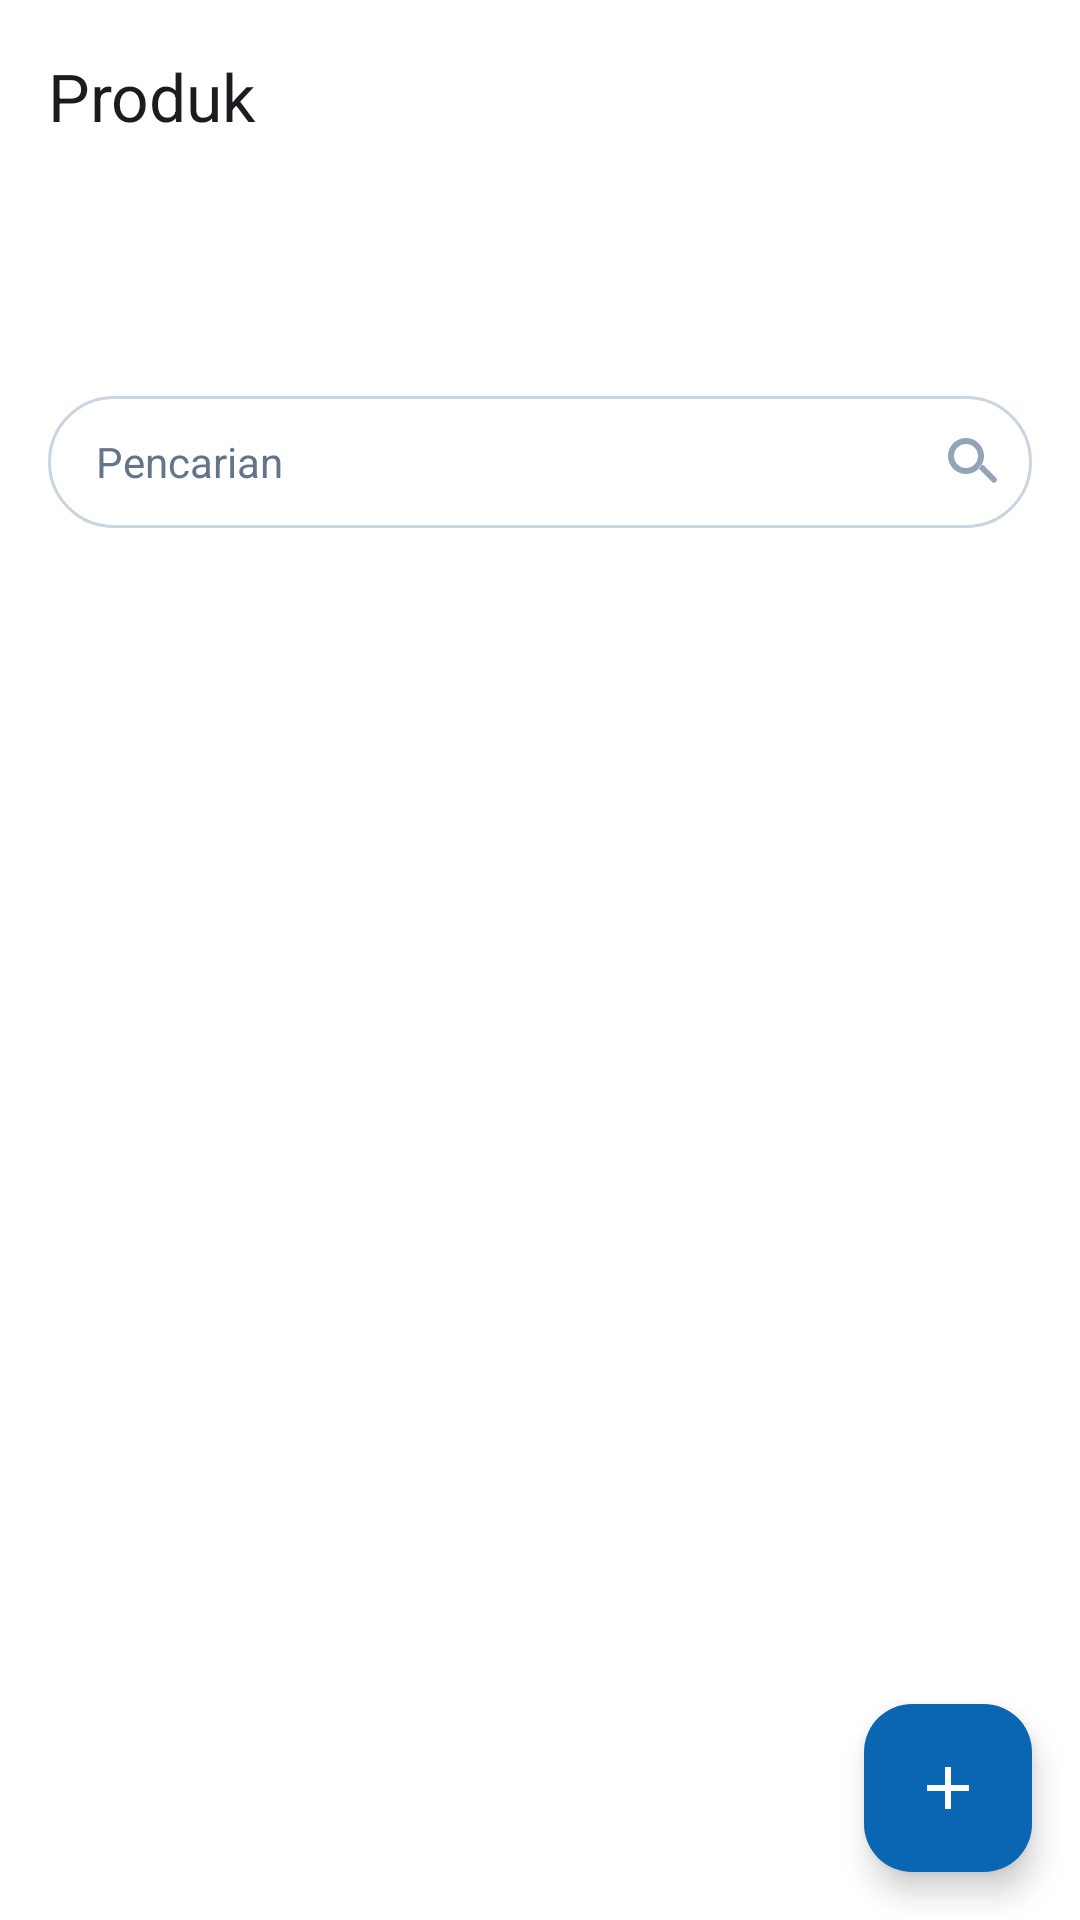

Screen size 1080px x 1920px. Icon name, then its box in pixels as bbox=[x1, y1, x2, y2]:
search: bbox=[948, 438, 997, 483]
Tambah produk: bbox=[864, 1704, 1032, 1872]
